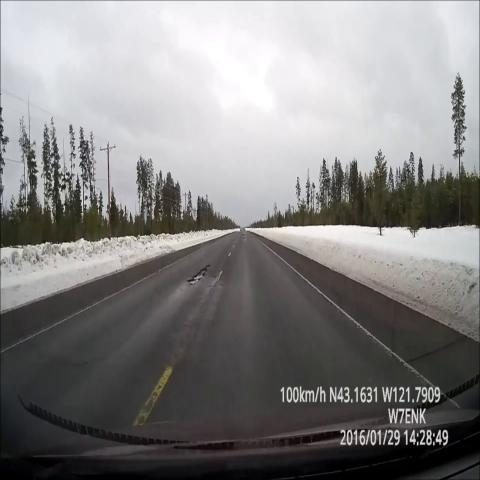pothole: (181, 256, 215, 294), (239, 233, 249, 245)
